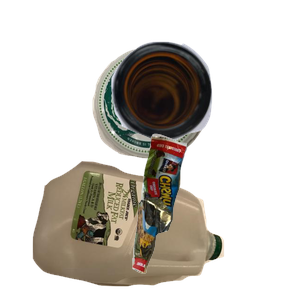glass: (109, 39, 300, 175)
metal: (90, 44, 289, 195)
plastic: (30, 159, 247, 300)
trash: (130, 131, 300, 300)
